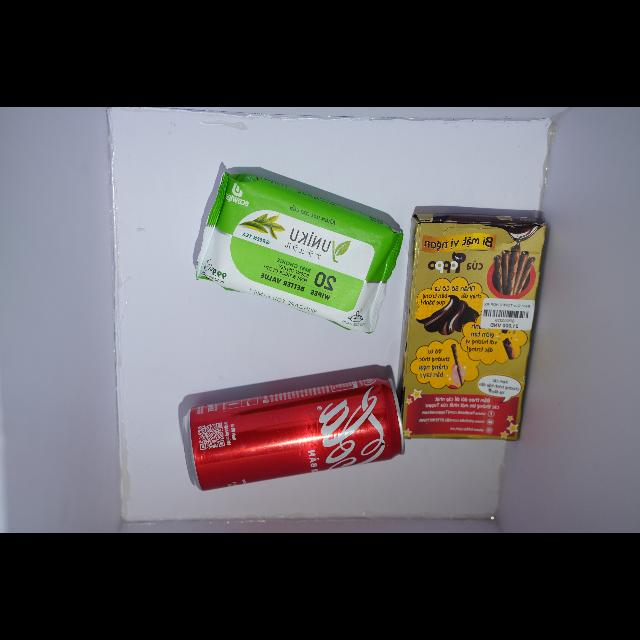banh_toppo_socola: (403, 215, 546, 440)
coca_cola: (184, 378, 403, 490)
khan_giay: (196, 173, 403, 332)
